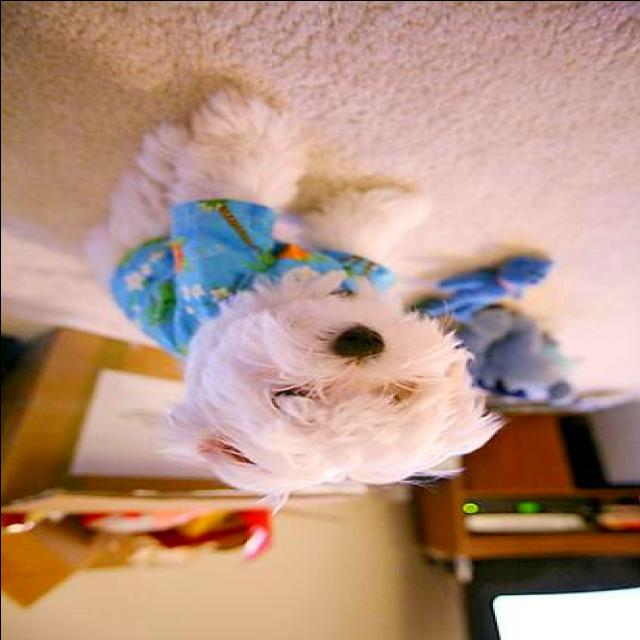maltese_dog: (94, 86, 511, 498)
